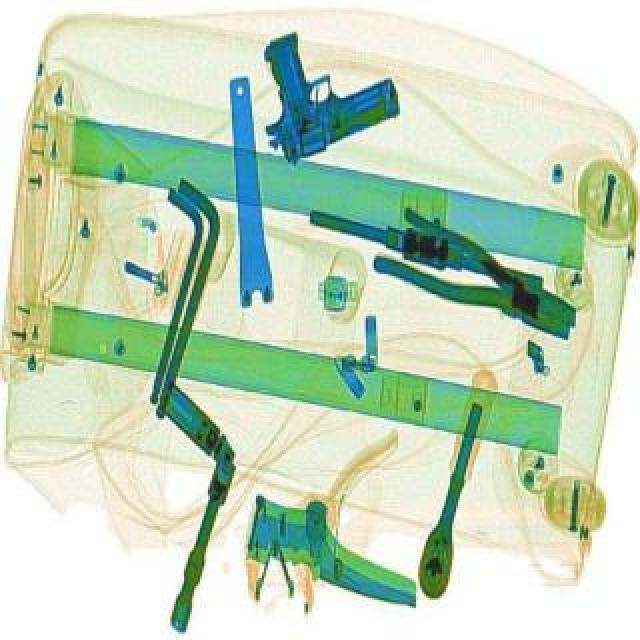gun: (226, 6, 408, 166)
wrench: (362, 196, 594, 350)
